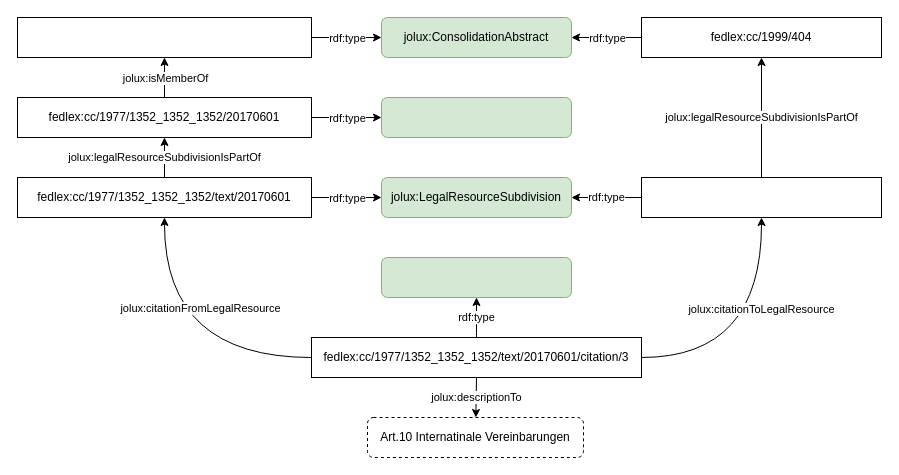
The diagram is 899 pixels wide and 475 high, and some of its shapes have lost their labels. The shapes that lost their labels are listed below. From the top down, each one's box as (x1, y1, x2, y2) in pixels, then its label:
(16, 16, 312, 58): fedlex:cc/1977/1352_1352_1352
(380, 96, 572, 138): jolux:Consolidation
(640, 176, 882, 218): fedlex:cc/1999/404/text
(380, 256, 572, 298): jolux:Citation
